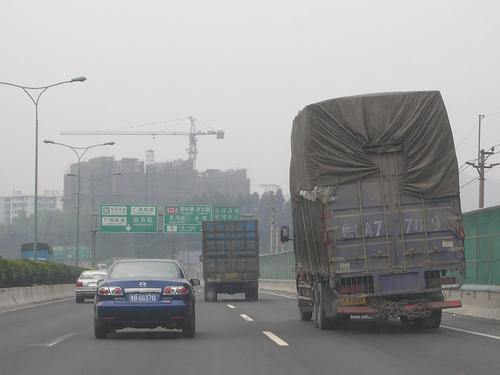truck: (279, 89, 465, 333), (199, 219, 261, 301)
